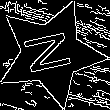N_E: (21, 28, 81, 79)
